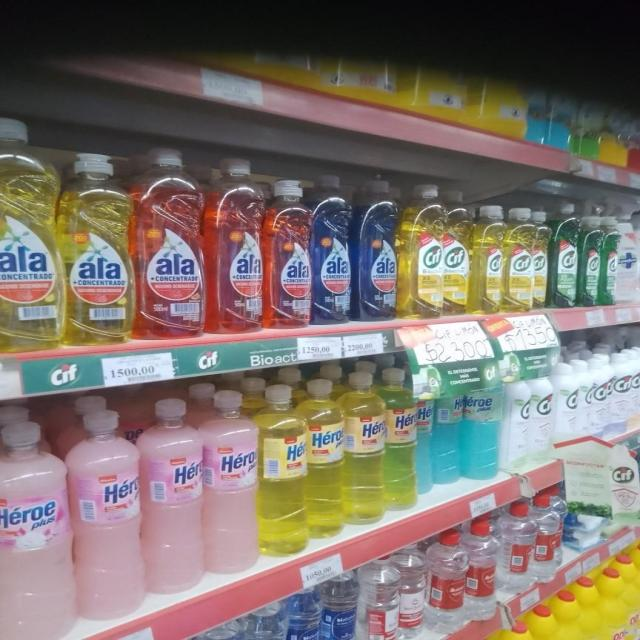ala_conc_amarillo: (62, 150, 134, 348), (0, 116, 60, 352)
ala_conc_azul: (356, 174, 398, 323), (314, 173, 354, 326)
ala_conc_rojo: (135, 147, 206, 341), (208, 155, 264, 336), (266, 177, 312, 331)
cif_conc_bot_amarilla: (400, 184, 442, 320), (442, 192, 471, 317), (472, 204, 503, 314), (505, 206, 531, 312), (532, 208, 550, 310)
cif_conc_botella_verde: (551, 205, 578, 309), (579, 215, 600, 308), (600, 217, 617, 306)
heroe: (0, 419, 74, 640), (73, 407, 142, 624), (142, 397, 203, 599), (204, 388, 258, 576), (259, 382, 306, 562), (344, 368, 385, 527), (306, 377, 344, 542), (384, 366, 420, 517), (423, 386, 463, 489), (462, 384, 502, 482)
